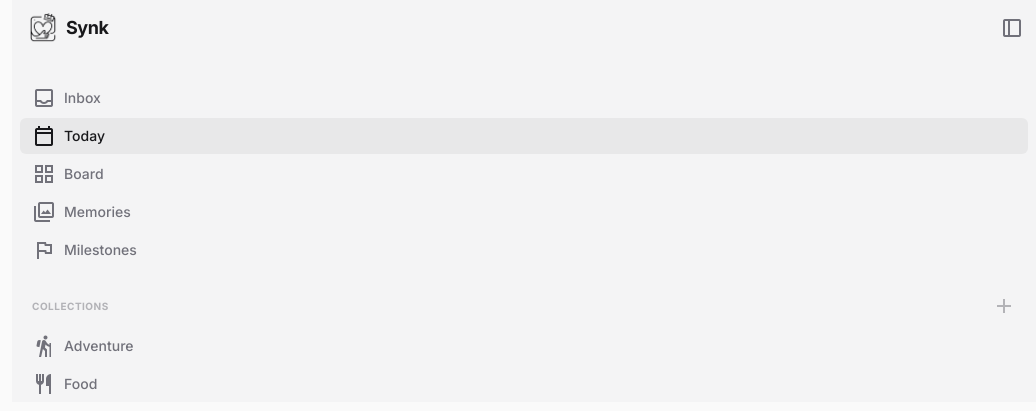
Test: Sidebar › shows context menu on right-click of collection
Right-click the element "Adventure" at (83, 346), box [32, 332, 134, 360]
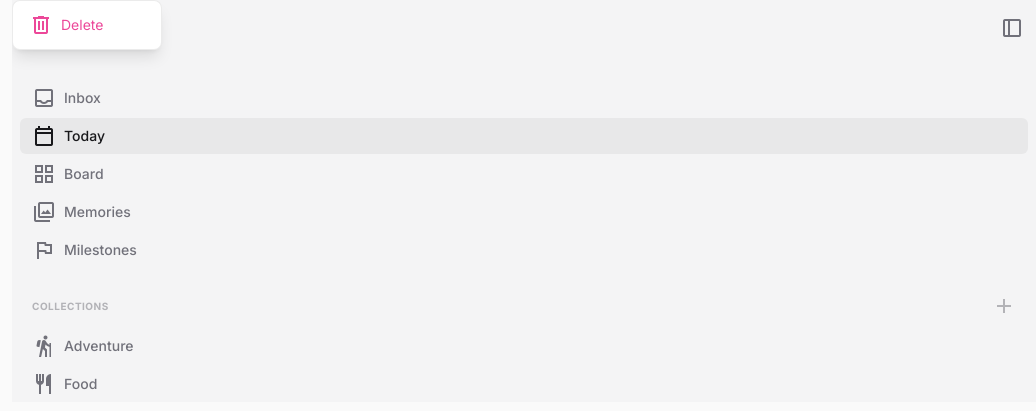
expect the button "Delete" is shown: met, box [13, 5, 161, 45]
